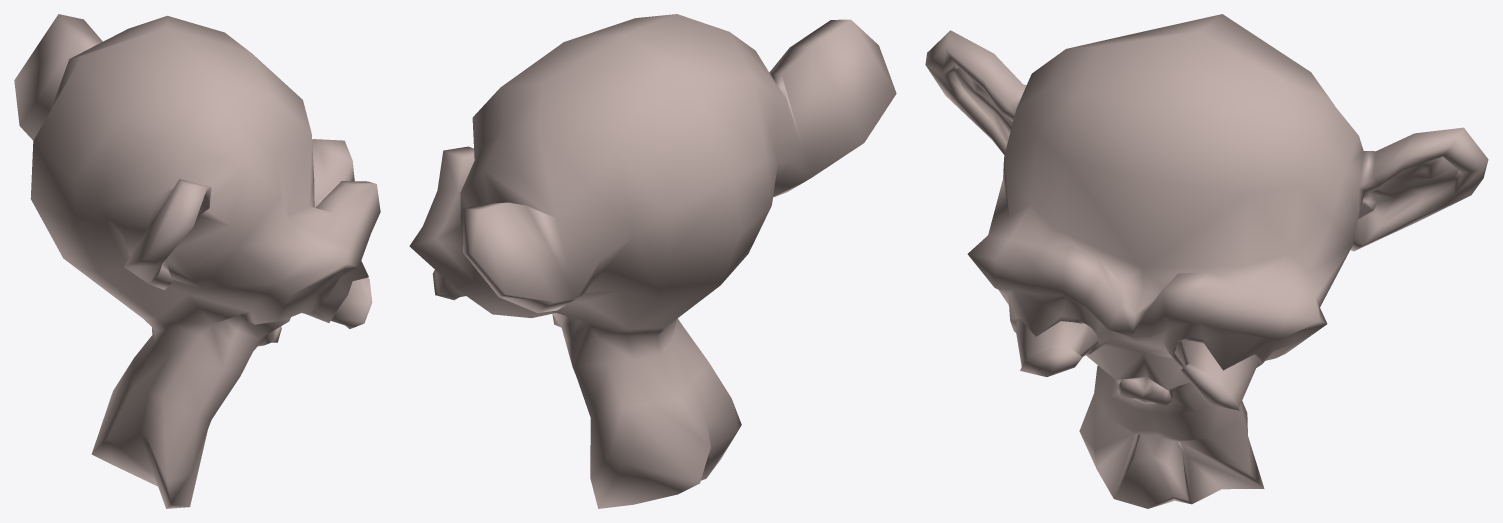
The model's file is monkey7.fbx.
3 renders of one model, left to right at view 1: azimuth 30°, elevation 25°; view 2: azimuth 150°, elevation 25°; view 3: azimuth 270°, elevation 25°, orthographic. The views are drawn at different scales.
Parts seen in each view (by area): view 1: Suzanne; view 2: Suzanne; view 3: Suzanne.
Part boxes in pixels (x1=…): Suzanne: x1=14, y1=14, x2=380, y2=508; Suzanne: x1=409, y1=14, x2=896, y2=508; Suzanne: x1=925, y1=14, x2=1488, y2=508.
Bounding box in the file's own units: 1736 × 2343 × 2493.
